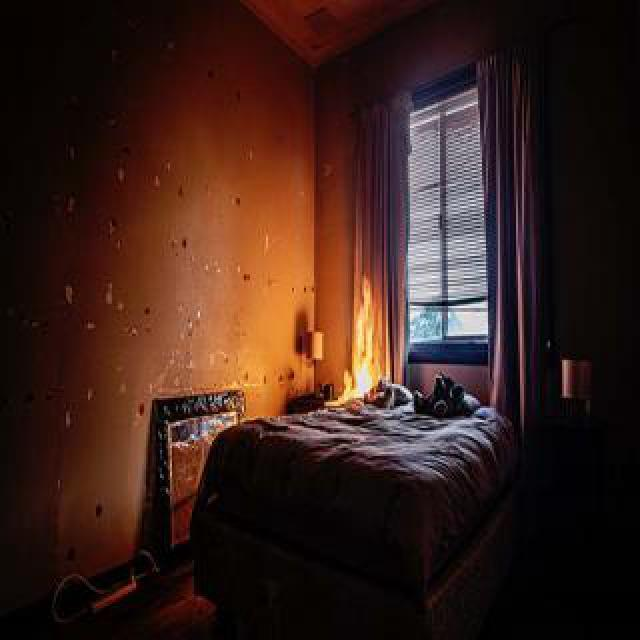Fire: (344, 284, 380, 400)
